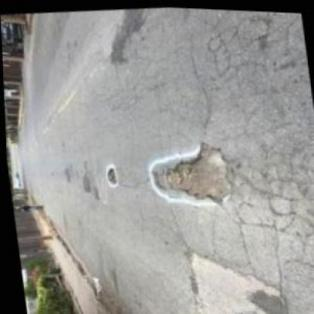Hueco: (145, 138, 232, 208), (101, 165, 116, 184)
